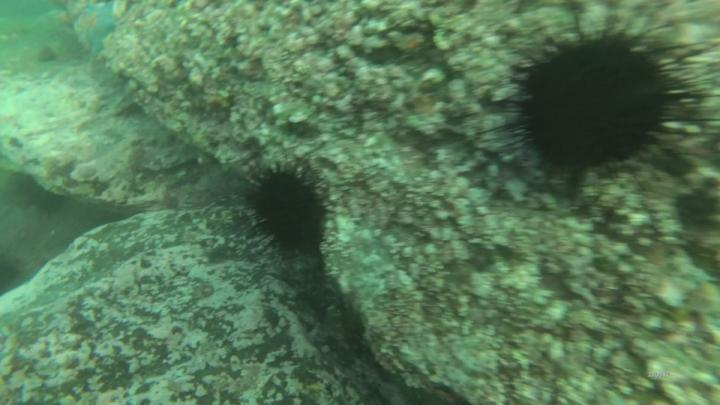echinus: (513, 38, 676, 181), (247, 167, 330, 259)
starfish: (76, 1, 121, 53)
